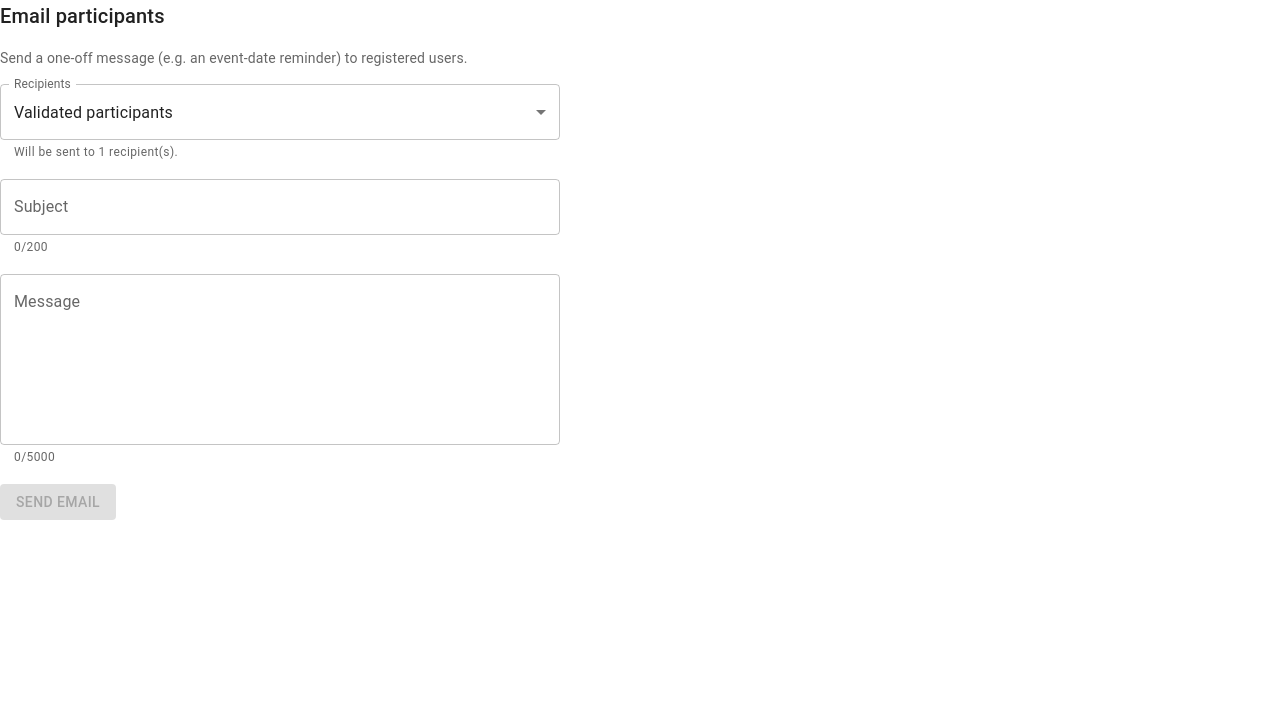
Test: EmailPanel › sends subject and body via POST on confirm
Check: the text "Will be sent to 1 recipient(s)." is shown, box [14, 145, 178, 159]
Type "Event reminder" into the field labelled "Subject" at (280, 207), box [0, 179, 560, 235]
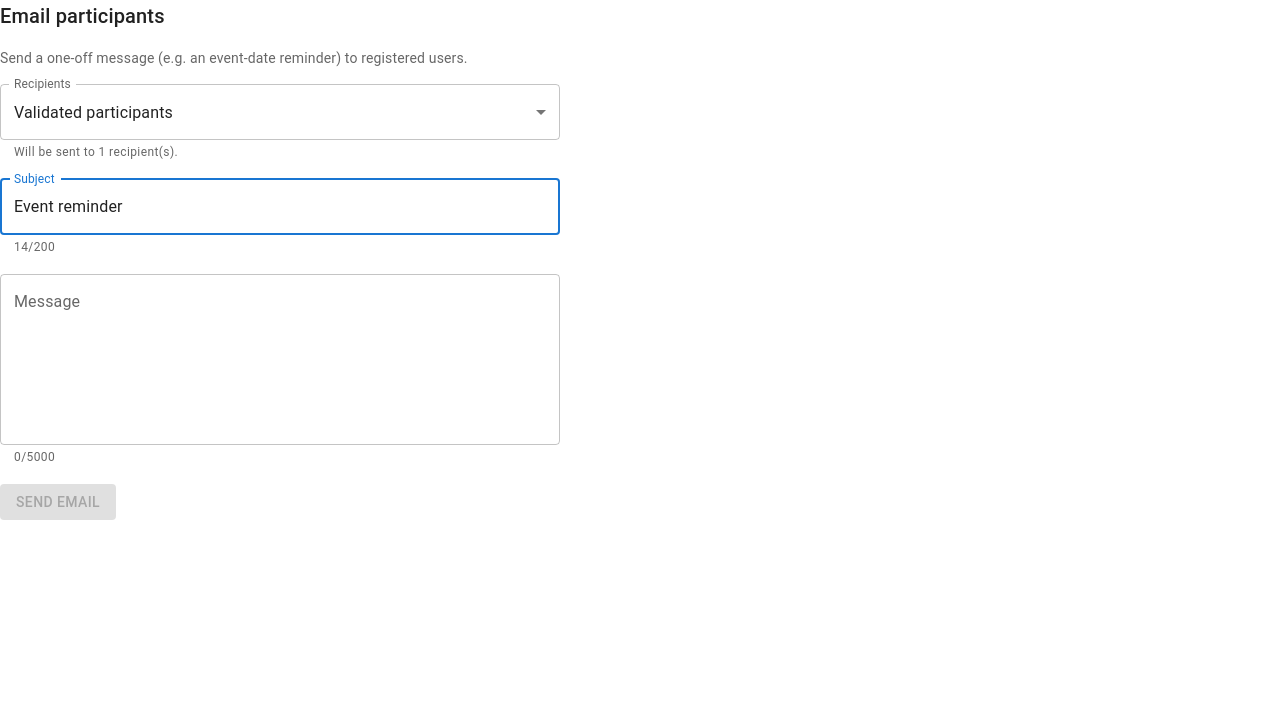
Type "The event is on the 14th." into the text box labelled "Message" at (280, 359), box [14, 290, 546, 428]
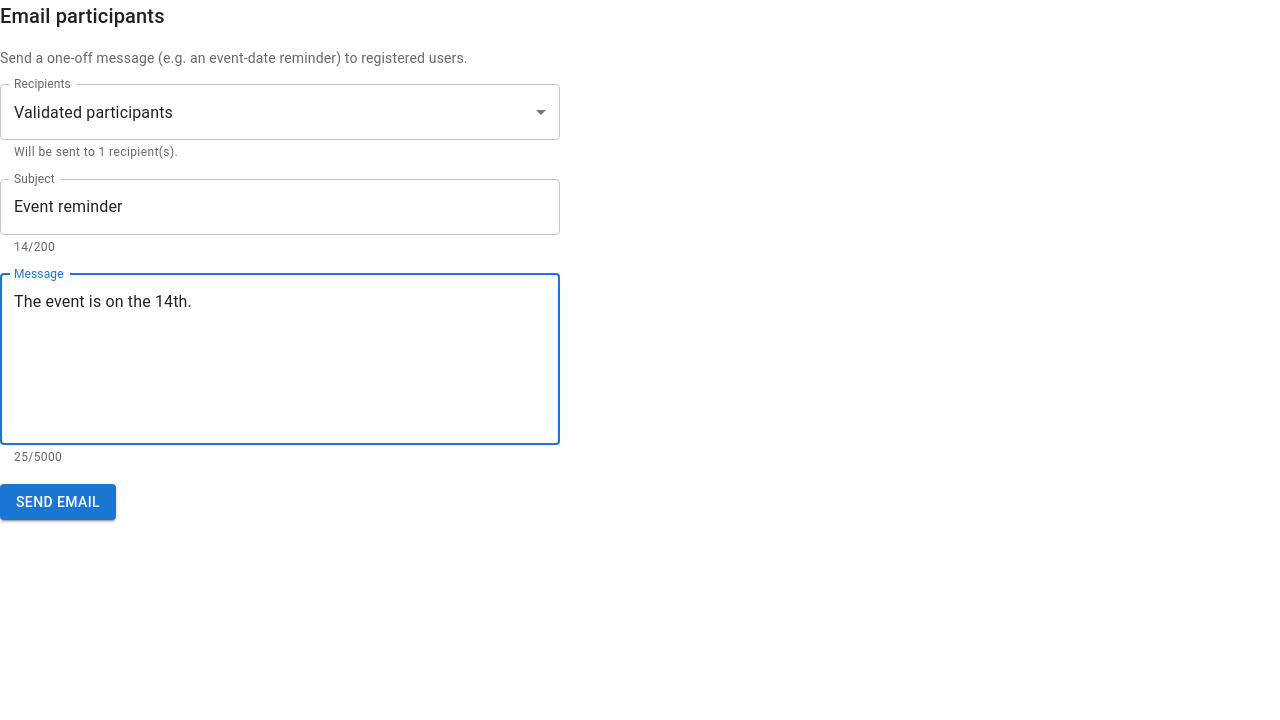
Click the button "Send email" at (58, 502), box [0, 484, 116, 520]
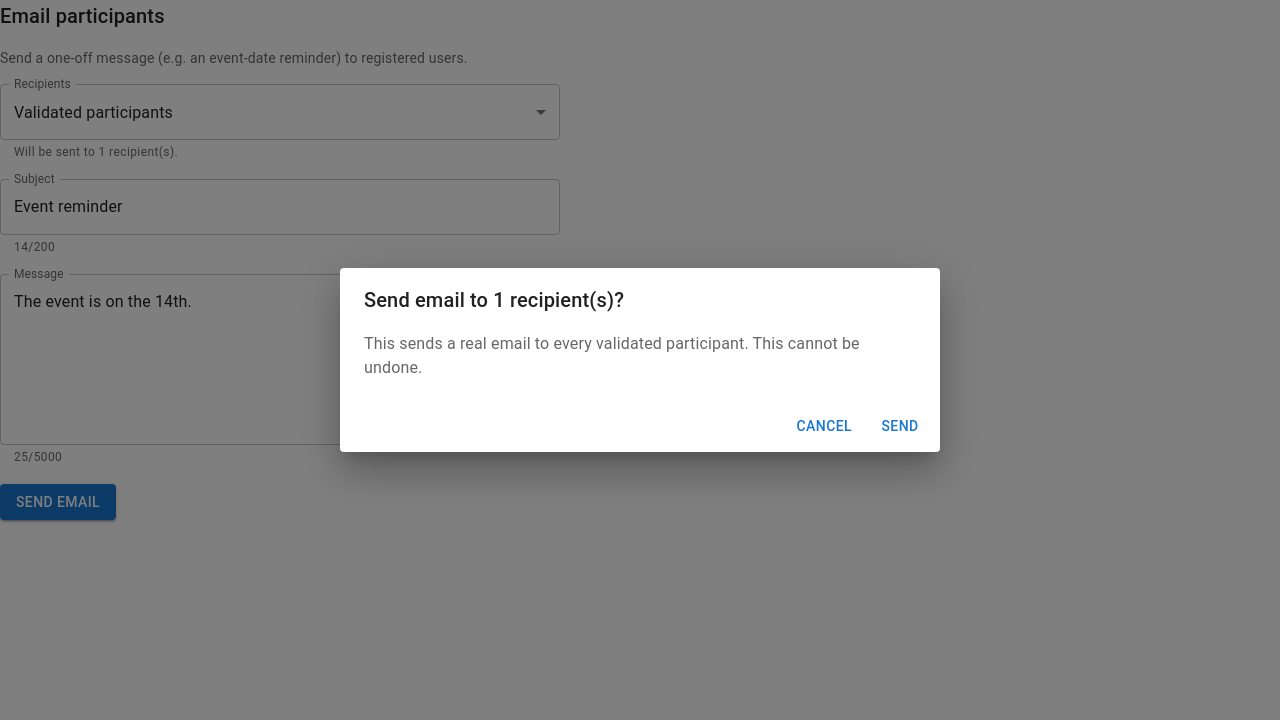
Click the button "Send" at (900, 426), box [868, 408, 932, 444]
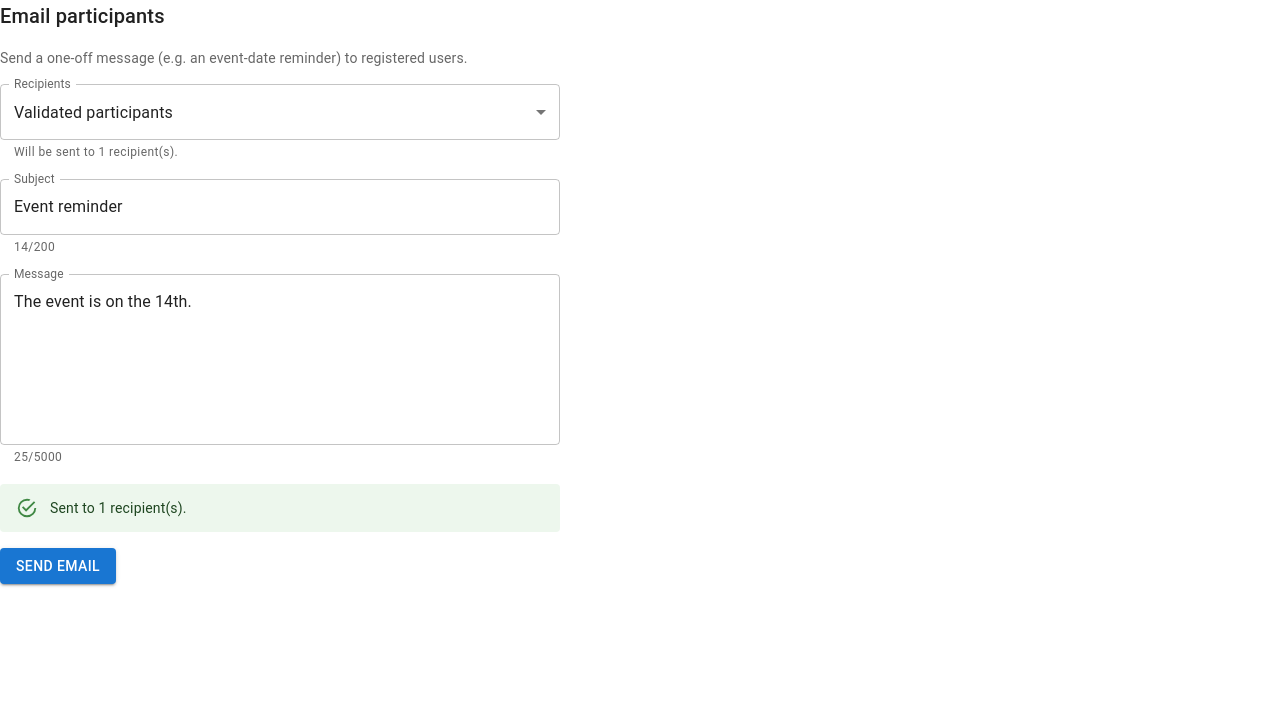
Check: the message shows "Sent to 1 recipient", box [50, 500, 187, 516]
